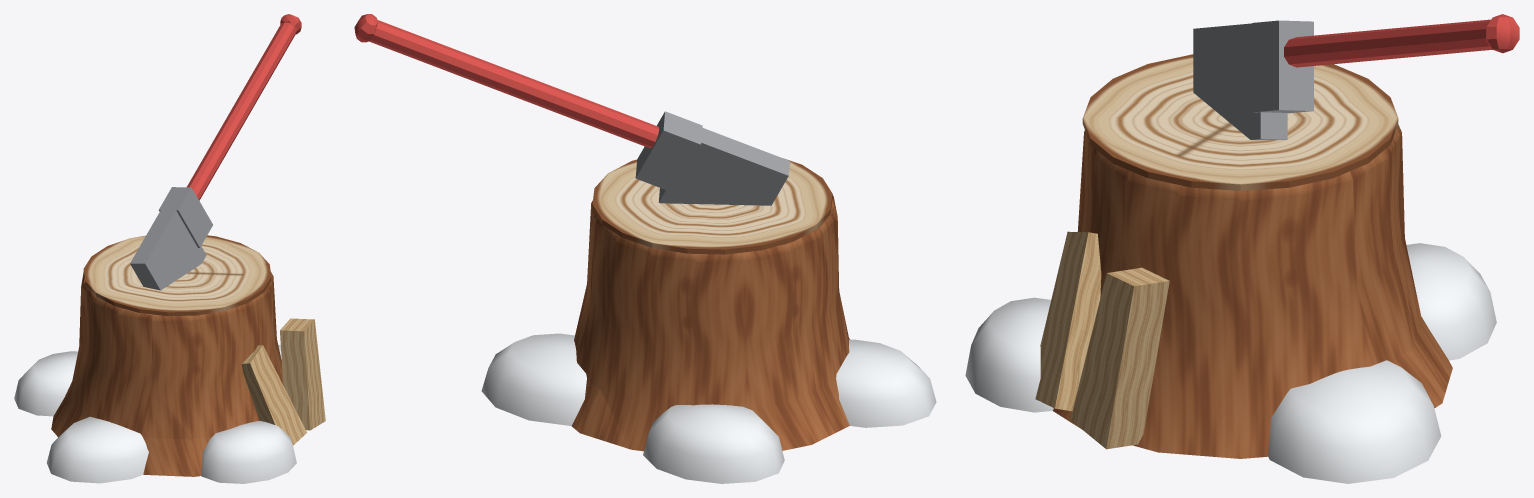
Rendered from StumpWithAxe.glb.
3 renders of one model, left to right at view 1: azimuth 30°, elevation 25°; view 2: azimuth 150°, elevation 25°; view 3: azimuth 270°, elevation 25°, orthographic. The views are drawn at different scales.
Visible parts, largest first — view 1: StumpWithAxe; view 2: StumpWithAxe; view 3: StumpWithAxe.
Boxes of the visible parts, x1,y1,x2,y2 form: StumpWithAxe: (14, 14, 325, 483); StumpWithAxe: (354, 14, 936, 483); StumpWithAxe: (965, 14, 1519, 483).
Size of the model in its own units: 7.5 by 6.3 by 6.18.
1 material, 1 textured.
